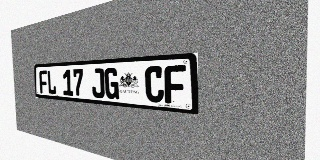1: (62, 69, 73, 96)
7: (72, 69, 84, 97)
C: (145, 66, 164, 103)
F: (164, 65, 186, 105), (39, 70, 48, 94)
G: (104, 68, 119, 100)
J: (91, 68, 105, 98)
L: (47, 70, 56, 95)
